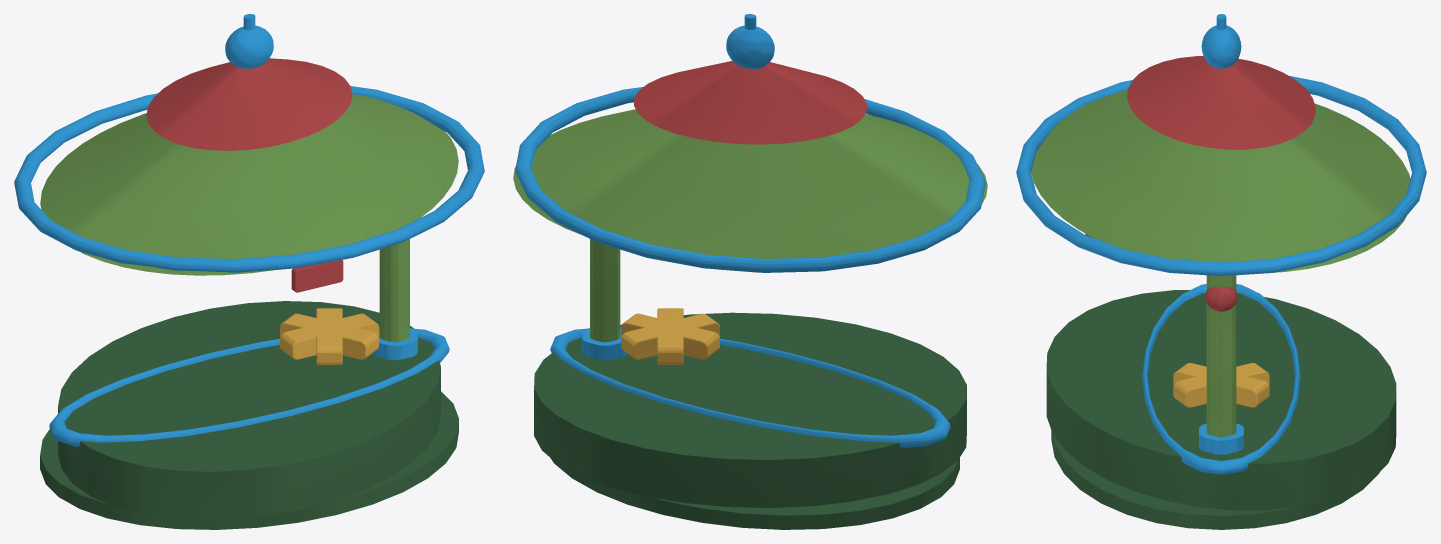
Rendered from 0811_中国建筑图鉴_濠濮亭.glb.
The picture shows the model from 3 angles, left to right: view 1: azimuth 30°, elevation 25°; view 2: azimuth 150°, elevation 25°; view 3: azimuth 270°, elevation 25°; orthographic projection. The views are drawn at different scales.
Visible parts, largest first — view 1: card_0811; view 2: card_0811; view 3: card_0811.
Part boxes in pixels (bbox=[...]): card_0811: bbox=[14, 14, 484, 529]; card_0811: bbox=[513, 14, 987, 529]; card_0811: bbox=[1016, 14, 1426, 529].
Size of the model in its own units: 1.01 by 1 by 0.8792.
